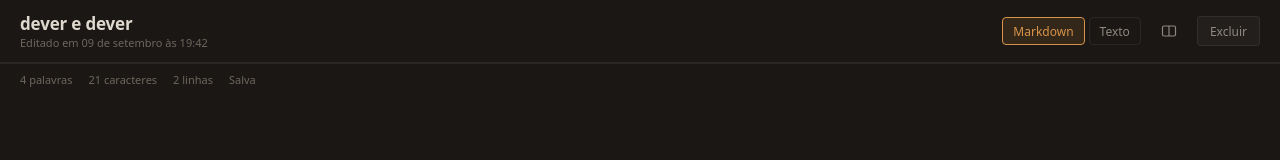
Scenario: busca dentro da nota › apagar letras do termo não deixa a navegação apontar para fora da lista
Type keys "{Control>}f{/Control}"
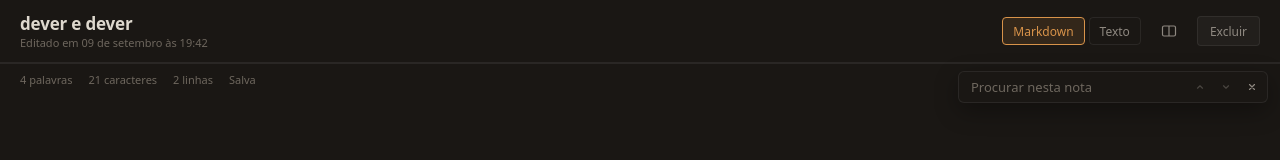
Type "dever" into the search field labelled "Procurar nesta nota" at (1049, 87), box [969,77,1129,97]
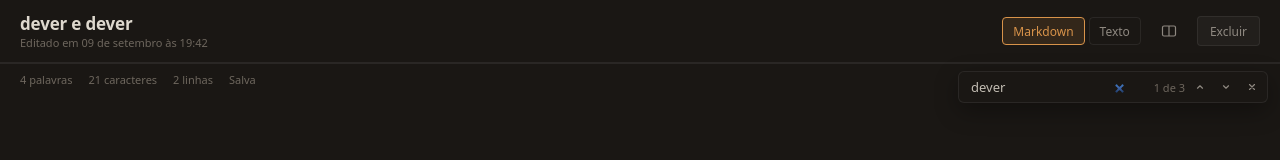
Press Enter Enter
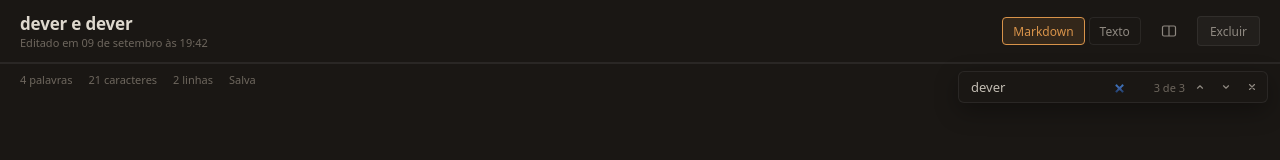
Check: the text "3 de 3" is shown, box [1154,80,1185,94]
Type "as" into the search field named "Procurar nesta nota" at (1049, 87), box [969,77,1129,97]
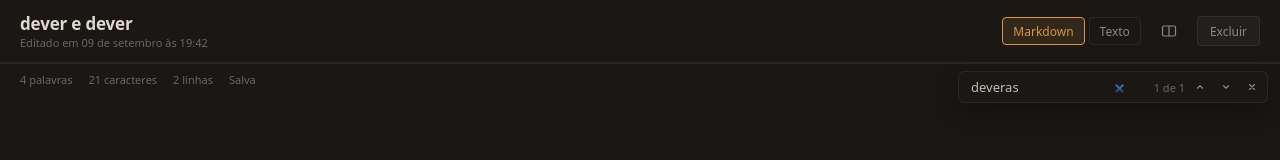
Check: the text "1 de 1" is shown, box [1154,80,1185,94]
